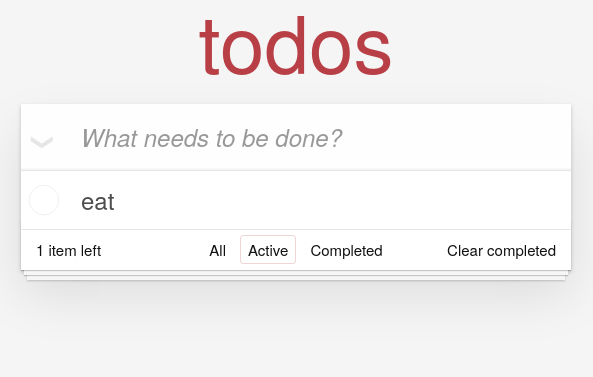
Test: 数据筛选 › 点击 completed 链接，应该展示所有任务，并且 completed 链接应该高亮
Click the link with test id "link-completed".
click(346, 250)  # box [310, 239, 383, 260]
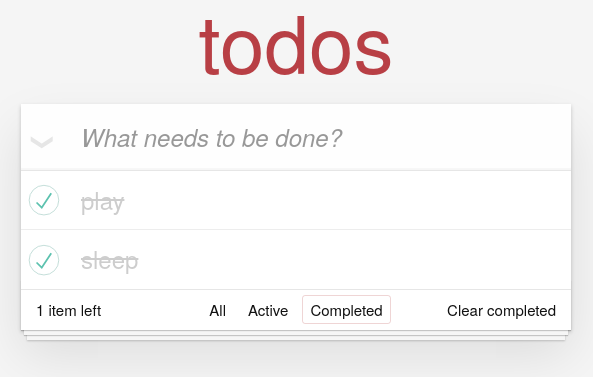
Expected: the number of list items with test id "todo-item" is 2, [21, 171, 571, 230]; [21, 230, 571, 289]
